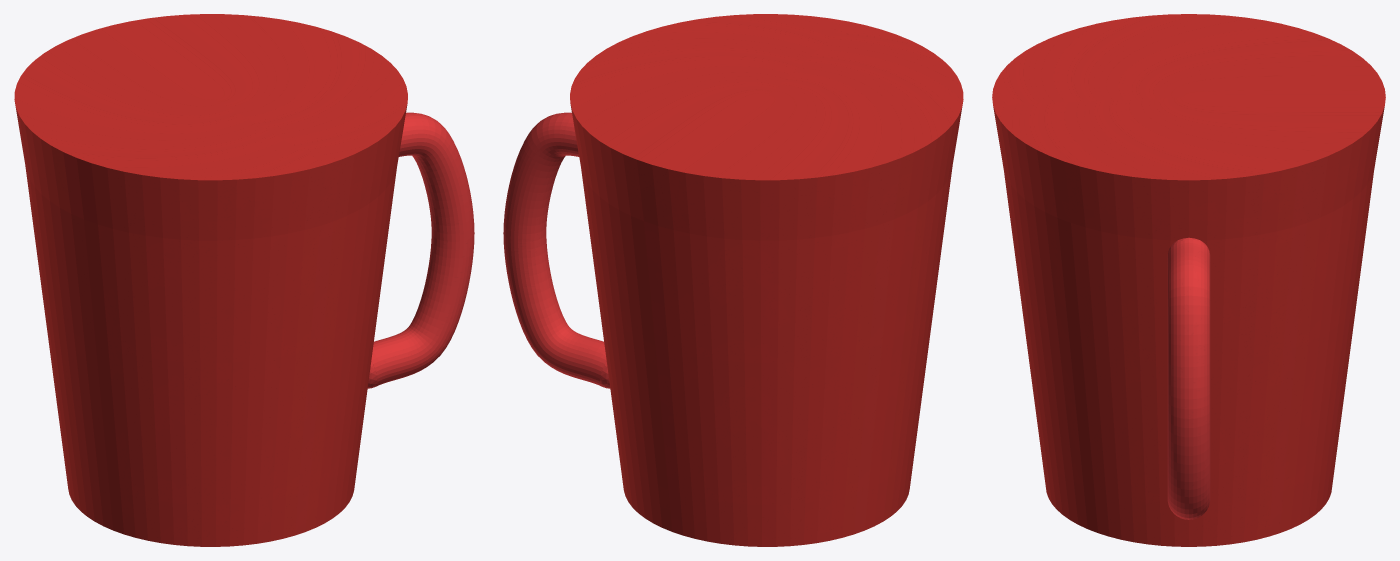
3 renders of one model, left to right at view 1: azimuth 30°, elevation 25°; view 2: azimuth 150°, elevation 25°; view 3: azimuth 270°, elevation 25°, orthographic.
Parts seen in each view (by area): view 1: part_1, part_0; view 2: part_1, part_0; view 3: part_1, part_0.
Boxes of the visible parts, bbox=[...] form: part_1: bbox=[14, 14, 407, 546]; part_0: bbox=[367, 112, 474, 388]; part_1: bbox=[570, 14, 963, 546]; part_0: bbox=[503, 112, 610, 388]; part_1: bbox=[992, 14, 1385, 546]; part_0: bbox=[1167, 237, 1210, 519].
Bounding box in the file's own units: 1 × 0.8633 × 0.7914.
Materials: 2 (2 with a texture image).
